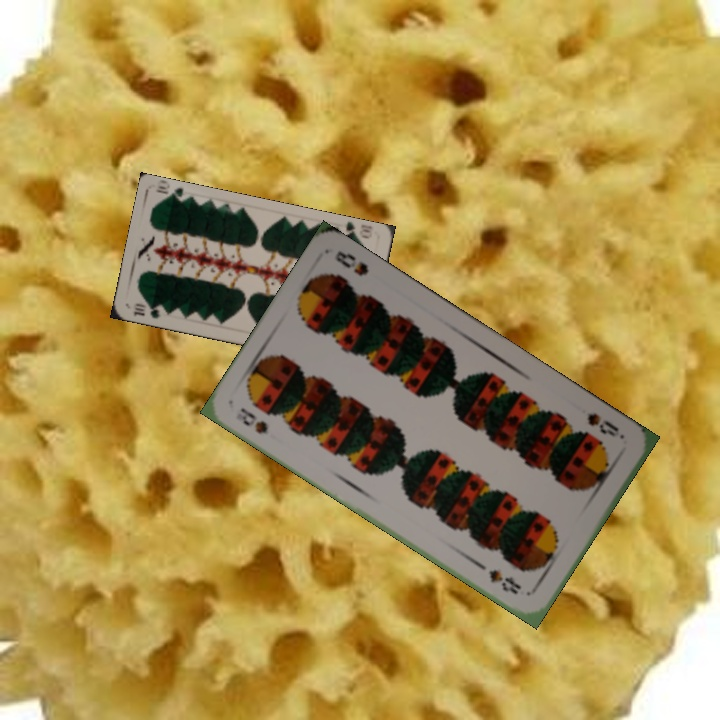G10: (336, 219, 375, 242), (130, 299, 168, 321)
S8: (582, 408, 628, 442), (236, 403, 270, 437)
